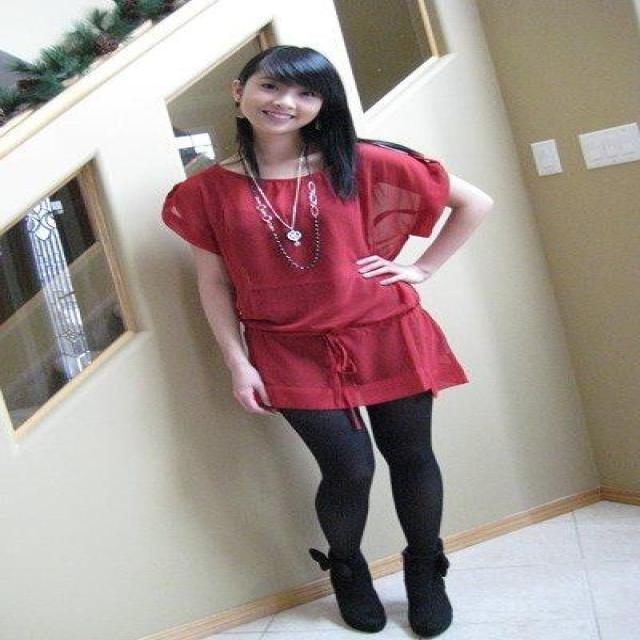dress: (162, 128, 467, 411)
shoe: (309, 550, 451, 639)
